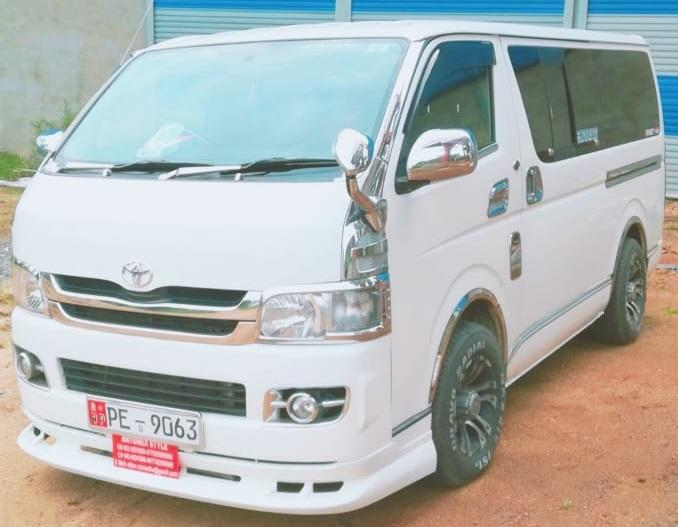car: (11, 22, 667, 509)
